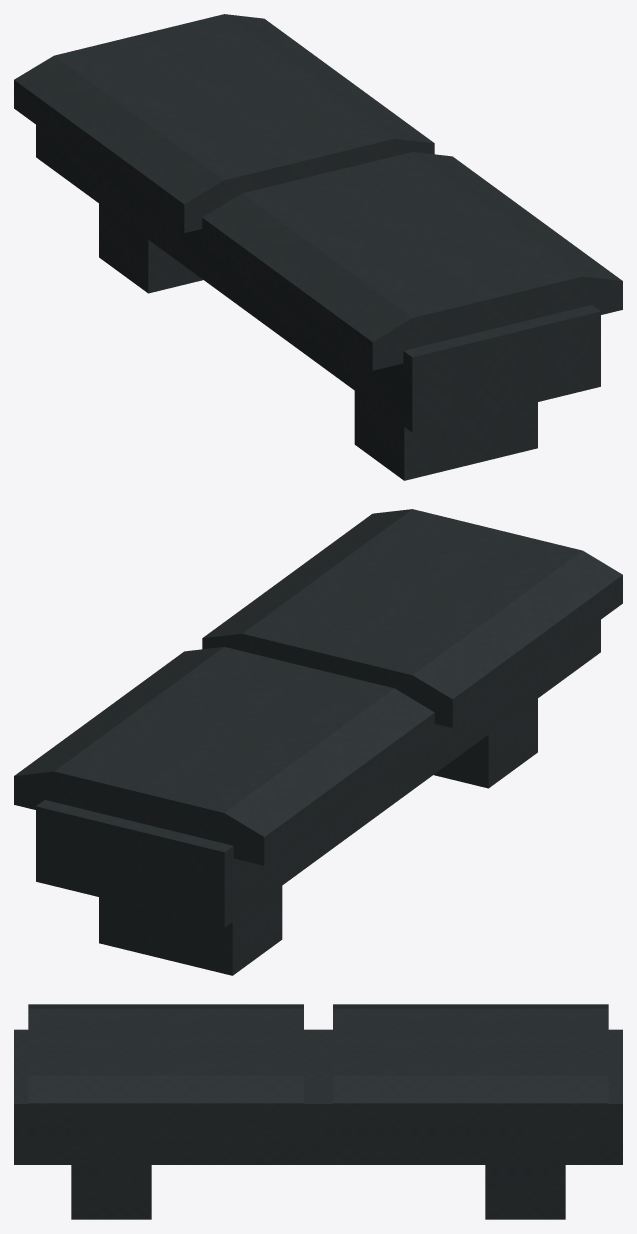
The model's file is sg_mount.glb.
3 renders of one model, top to bottom at view 1: azimuth 30°, elevation 25°; view 2: azimuth 150°, elevation 25°; view 3: azimuth 270°, elevation 25°, orthographic. The views are drawn at different scales.
Parts seen in each view (by area): view 1: mount__sg_mount_LOD0_RAID_Secondary_Original_steel, mount__sg_mount_LOD1_RAID_Secondary_Original_steel; view 2: mount__sg_mount_LOD0_RAID_Secondary_Original_steel, mount__sg_mount_LOD1_RAID_Secondary_Original_steel; view 3: mount__sg_mount_LOD0_RAID_Secondary_Original_steel, mount__sg_mount_LOD1_RAID_Secondary_Original_steel.
Part boxes in pixels (box(x1,y1,x2,y2)): mount__sg_mount_LOD0_RAID_Secondary_Original_steel: box(14, 14, 622, 480); mount__sg_mount_LOD1_RAID_Secondary_Original_steel: box(40, 34, 595, 350); mount__sg_mount_LOD0_RAID_Secondary_Original_steel: box(14, 509, 622, 975); mount__sg_mount_LOD1_RAID_Secondary_Original_steel: box(41, 530, 596, 845); mount__sg_mount_LOD0_RAID_Secondary_Original_steel: box(14, 1004, 622, 1219); mount__sg_mount_LOD1_RAID_Secondary_Original_steel: box(72, 1004, 564, 1126).
Size of the model in its own units: 0.073 by 0.052 by 0.19.
1 material, 1 textured.
